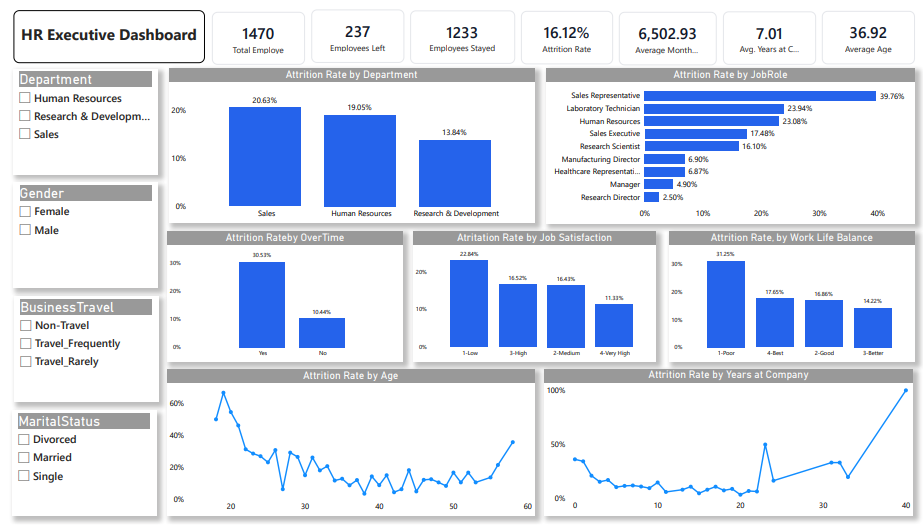

What the dashboard file says about the page in this screenshot:
{"tool":"powerbi","page":{"name":"HR Executive Dashboard","canvas":[1920,1080],"ordinal":0},"visuals":[{"type":"cardVisual","fields":{"Data":["HR-Employee-Attrition.Total Employe"]},"box":[428.3,6.7,195,111.7],"z":0},{"type":"cardVisual","fields":{"Data":["HR-Employee-Attrition.Attrition Rate"]},"box":[1062.5,5.4,192.5,112],"z":1000},{"type":"cardVisual","fields":{"Data":["HR-Employee-Attrition.Employe Stayed"]},"box":[850.8,7.1,195,112],"z":2000},{"type":"cardVisual","fields":{"Data":["HR-Employee-Attrition.Monthly Avarge Income"]},"box":[1271.7,6.7,205,112],"z":3000},{"type":"cardVisual","fields":{"Data":["HR-Employee-Attrition.Employe Left"]},"box":[639.2,7.5,195,112],"z":4000},{"type":"textbox","box":[13.2,4.4,399.5,109.8],"z":5000},{"type":"clusteredColumnChart","title":"Attrition Rate by Department","fields":{"Category":["HR-Employee-Attrition.Department"],"Y":["HR-Employee-Attrition.Attrition Rate"]},"box":[338,125,766.1,324],"z":6000},{"type":"clusteredBarChart","title":"Attrition Rate by JobRole","fields":{"Category":["HR-Employee-Attrition.JobRole"],"Y":["HR-Employee-Attrition.Attrition Rate"]},"box":[1127.5,125,772.5,325],"z":7000},{"type":"clusteredColumnChart","title":"Attrition Rateby OverTime","fields":{"Category":["HR-Employee-Attrition.OverTime"],"Y":["HR-Employee-Attrition.Attrition Rate"]},"box":[335,466.2,492.5,272.5],"z":8000},{"type":"clusteredColumnChart","title":"Atritation Rate by Job Satisfaction","fields":{"Category":["HR-Employee-Attrition.Job Satisfaction lable"],"Y":["HR-Employee-Attrition.Attrition Rate"]},"box":[850,466.2,507.5,272.5],"z":9000},{"type":"clusteredColumnChart","title":"Attrition Rate,  by Work Life Balance","fields":{"Category":["HR-Employee-Attrition.WorkLifeBalance Lable"],"Y":["HR-Employee-Attrition.Attrition Rate"]},"box":[1385,466.2,515,272.5],"z":10000},{"type":"lineChart","title":"Attrition Rate by Age","fields":{"Y":["HR-Employee-Attrition.Attrition Rate"],"Category":["HR-Employee-Attrition.Age"]},"box":[334.3,754.9,770,307],"z":11000},{"type":"lineChart","title":"Attrition Rate by Years at Company","fields":{"Category":["HR-Employee-Attrition.YearsAtCompany"],"Y":["HR-Employee-Attrition.Attrition Rate"]},"box":[1124.3,754.3,771.4,307],"z":12000},{"type":"slicer","fields":{"Values":["HR-Employee-Attrition.Department"]},"box":[11.7,126.7,303.3,220],"z":13000},{"type":"slicer","fields":{"Values":["HR-Employee-Attrition.Gender"]},"box":[13.3,365,301.7,220],"z":14000},{"type":"slicer","fields":{"Values":["HR-Employee-Attrition.BusinessTravel"]},"box":[14,603.3,302,220],"z":15000},{"type":"slicer","fields":{"Values":["HR-Employee-Attrition.MaritalStatus"]},"box":[10,842,302,220],"z":16000},{"type":"cardVisual","fields":{"Data":["Avg(HR-Employee-Attrition.Age)"]},"box":[1705,5,195,112],"z":17000},{"type":"cardVisual","fields":{"Data":["Avg(HR-Employee-Attrition.YearsAtCompany)"]},"box":[1493.3,6.3,195,112],"z":18000}]}

Visuals, with their boxes in screenshot pixels (x1, y1, x2, y2), scaled from the page's 1920x1080 canvas onto the 923x527 screenshot:
cardVisual - HR-Employee-Attrition.Total Employe: 206:3:300:58
cardVisual - HR-Employee-Attrition.Attrition Rate: 511:3:603:57
cardVisual - HR-Employee-Attrition.Employe Stayed: 409:3:503:58
cardVisual - HR-Employee-Attrition.Monthly Avarge Income: 611:3:710:58
cardVisual - HR-Employee-Attrition.Employe Left: 307:4:401:58
textbox: 6:2:198:56
"Attrition Rate by Department" clusteredColumnChart: 162:61:531:219
"Attrition Rate by JobRole" clusteredBarChart: 542:61:913:220
"Attrition Rateby OverTime" clusteredColumnChart: 161:227:398:360
"Atritation Rate by Job Satisfaction" clusteredColumnChart: 409:227:653:360
"Attrition Rate,  by Work Life Balance" clusteredColumnChart: 666:227:913:360
"Attrition Rate by Age" lineChart: 161:368:531:518
"Attrition Rate by Years at Company" lineChart: 540:368:911:518
slicer - HR-Employee-Attrition.Department: 6:62:151:169
slicer - HR-Employee-Attrition.Gender: 6:178:151:285
slicer - HR-Employee-Attrition.BusinessTravel: 7:294:152:402
slicer - HR-Employee-Attrition.MaritalStatus: 5:411:150:518
cardVisual - Avg(HR-Employee-Attrition.Age): 820:2:913:57
cardVisual - Avg(HR-Employee-Attrition.YearsAtCompany): 718:3:812:58
